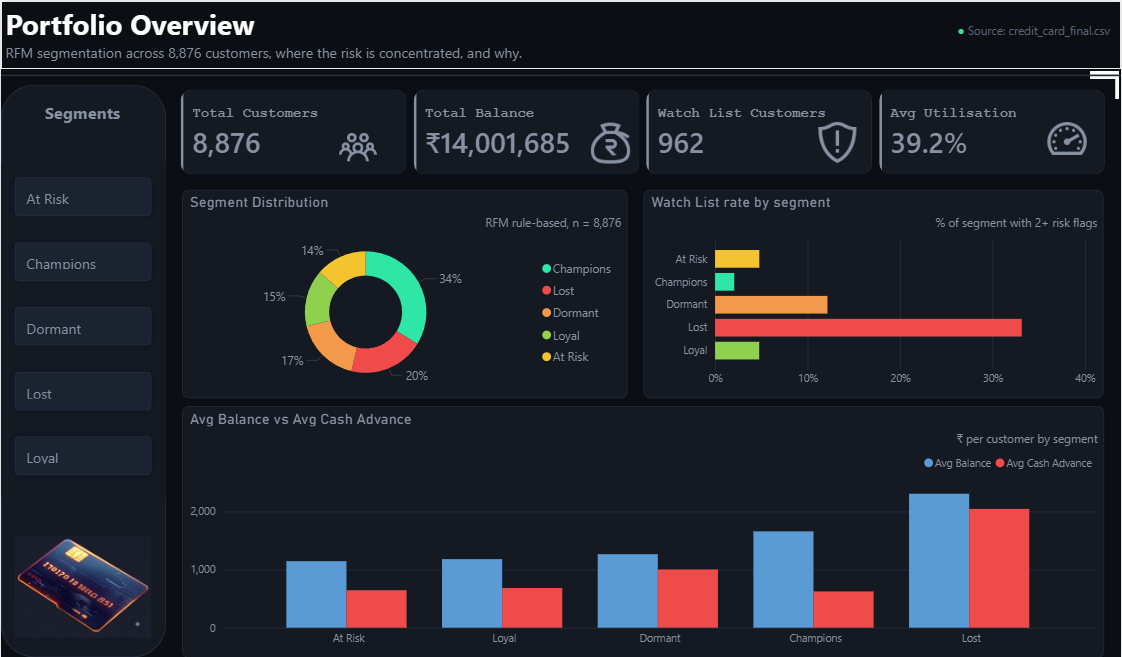

The dashboard page shown, as its layout file describes it:
{"tool":"powerbi","page":{"name":"01 Overview","canvas":[1280,750],"ordinal":0},"visuals":[{"type":"textbox","box":[0,0,1280,78.6],"z":0},{"type":"cardVisual","fields":{"Data":["credit_card_final.Total Customers","credit_card_final.Total Balance","credit_card_final.Watch List Customers","credit_card_final.Avg Utilisation"]},"box":[188.6,84.3,1091.4,131.4],"z":0,"group":"g1"},{"type":"shape","box":[0,95.7,188.6,654.3],"z":1000},{"type":"image","box":[354.3,141.7,107.1,49.8],"z":1000,"group":"g1"},{"type":"image","box":[658.6,131.5,75.7,60],"z":2000,"group":"g1"},{"type":"donutChart","title":"Segment Distribution","fields":{"Category":["credit_card_final.segment"],"Y":["credit_card_final.Total Customers"]},"box":[207.1,215.7,508.6,238.6],"z":2000},{"type":"image","box":[924.3,127.7,62.9,68.9],"z":3000,"group":"g1"},{"type":"advancedSlicerVisual","fields":{"Values":["credit_card_final.segment"]},"box":[0,185.7,188.6,381.4],"z":3000},{"type":"image","box":[1177.2,127.7,82.9,60],"z":4000,"group":"g1"},{"type":"clusteredBarChart","title":"Watch List rate by segment","fields":{"Category":["credit_card_final.segment"],"Y":["credit_card_final.Watch List %"]},"box":[734.3,215.7,525.7,238.6],"z":4000},{"type":"textbox","box":[16.2,110,155,35],"z":5000},{"type":"clusteredColumnChart","title":"Avg Balance vs Avg Cash Advance","fields":{"Y":["credit_card_final.Avg Balance","credit_card_final.Avg Cash Advance"],"Category":["credit_card_final.segment"]},"box":[206.7,462.2,1053.3,287.8],"z":6000},{"type":"image","box":[15.7,588.6,155.7,161.4],"z":7000},{"type":"group","id":"g1","title":"Group 1","box":[188.6,84.3,1091.4,131.4],"z":8000},{"type":"shape","box":[0,78.6,1280,12.9],"z":9000}]}

Visuals, with their boxes in screenshot pixels (x1, y1, x2, y2), scaled from the page's 1280x750 canvas onto the 1122x657 screenshot:
textbox: [x1=0, y1=0, x2=1121, y2=69]
cardVisual - credit_card_final.Total Customers x credit_card_final.Total Balance: [x1=165, y1=74, x2=1121, y2=189]
shape: [x1=0, y1=84, x2=165, y2=656]
image: [x1=311, y1=124, x2=404, y2=168]
image: [x1=577, y1=115, x2=644, y2=168]
"Segment Distribution" donutChart: [x1=182, y1=189, x2=627, y2=398]
image: [x1=810, y1=112, x2=865, y2=172]
advancedSlicerVisual - credit_card_final.segment: [x1=0, y1=163, x2=165, y2=497]
image: [x1=1032, y1=112, x2=1105, y2=164]
"Watch List rate by segment" clusteredBarChart: [x1=644, y1=189, x2=1104, y2=398]
textbox: [x1=14, y1=96, x2=150, y2=127]
"Avg Balance vs Avg Cash Advance" clusteredColumnChart: [x1=181, y1=405, x2=1104, y2=656]
image: [x1=14, y1=516, x2=150, y2=656]
"Group 1" group: [x1=165, y1=74, x2=1121, y2=189]
shape: [x1=0, y1=69, x2=1121, y2=80]
